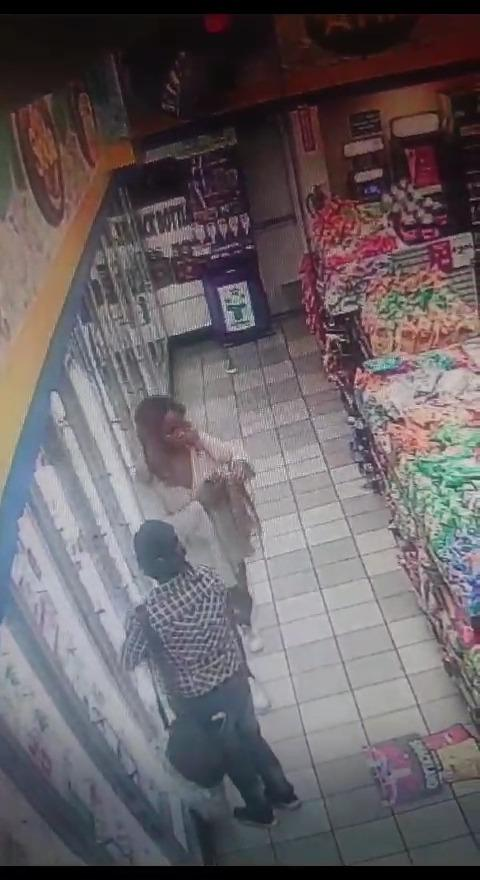Normal: (121, 517, 308, 845)
shoplifting: (133, 378, 259, 597)
